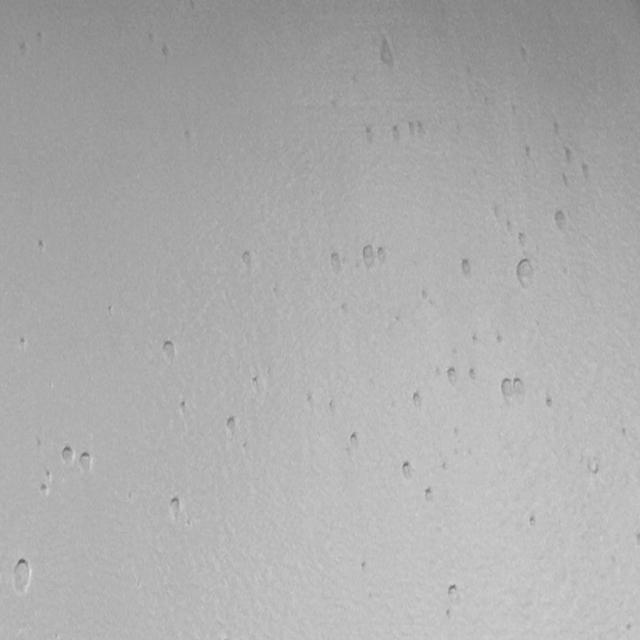pin holes: (9, 558, 32, 596), (375, 36, 399, 70), (514, 258, 538, 290), (166, 493, 187, 523), (551, 209, 572, 236), (78, 448, 98, 476), (239, 249, 261, 274), (159, 339, 180, 365), (496, 376, 517, 402), (512, 372, 528, 405), (326, 247, 345, 273), (586, 450, 603, 479), (221, 415, 241, 439), (58, 444, 77, 469), (397, 458, 417, 481), (444, 581, 464, 604), (390, 121, 408, 146), (346, 429, 364, 454), (517, 40, 534, 66), (411, 119, 430, 142), (360, 242, 378, 266), (443, 364, 460, 389), (578, 162, 596, 185), (176, 397, 194, 420), (459, 258, 476, 281), (361, 122, 377, 146), (159, 43, 175, 64), (410, 389, 425, 411), (377, 243, 391, 263), (489, 195, 500, 220), (422, 485, 436, 504), (40, 480, 53, 500), (418, 288, 433, 305), (249, 373, 260, 396), (468, 366, 482, 384), (515, 230, 529, 248), (18, 41, 31, 60), (525, 513, 538, 531), (544, 394, 556, 413), (522, 146, 536, 162), (18, 334, 30, 352), (328, 399, 340, 416), (358, 560, 368, 580), (44, 469, 56, 485), (439, 460, 452, 474), (37, 238, 49, 253), (470, 332, 482, 347), (36, 30, 48, 45), (566, 146, 574, 166), (497, 333, 508, 347), (104, 303, 115, 317)
